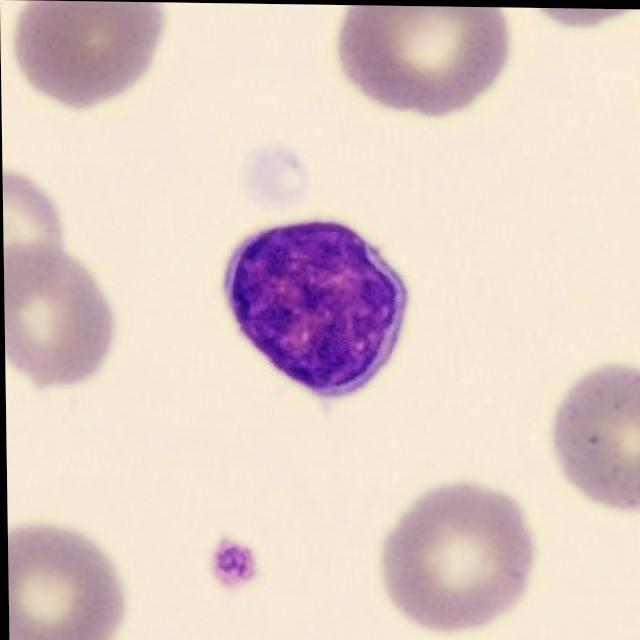Linfocito: (223, 219, 409, 398)
